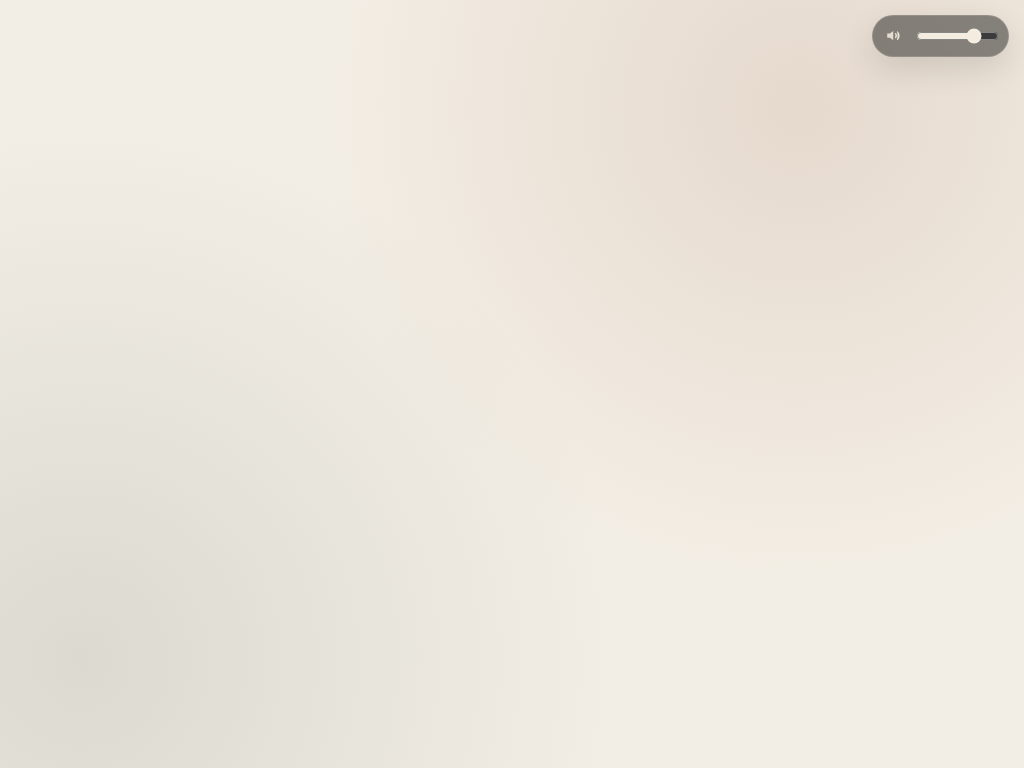
Test: ScreenAudioControl › mutes from the icon and unmutes when the slider is raised
Click the button named "Выключить звук" at (893, 36), box left=879, top=22, right=907, bottom=50
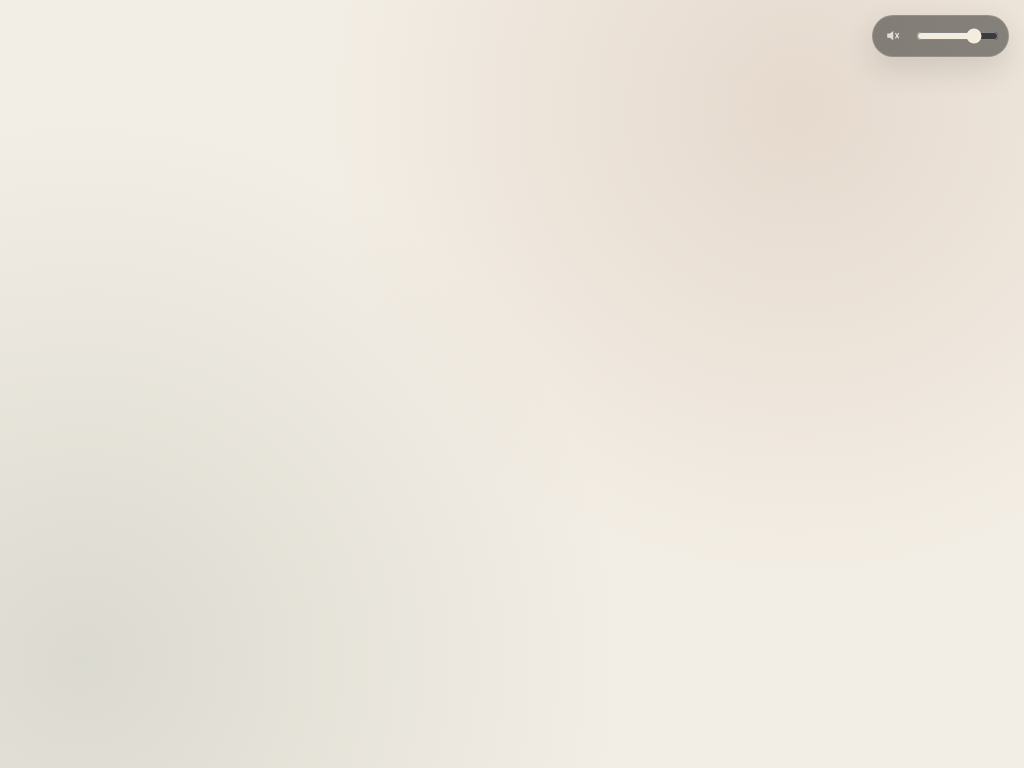
Now the button named "Включить звук" is shown, box left=879, top=22, right=907, bottom=50
Set the slider named "Громкость" to "30" at (944, 36), box left=916, top=25, right=999, bottom=47
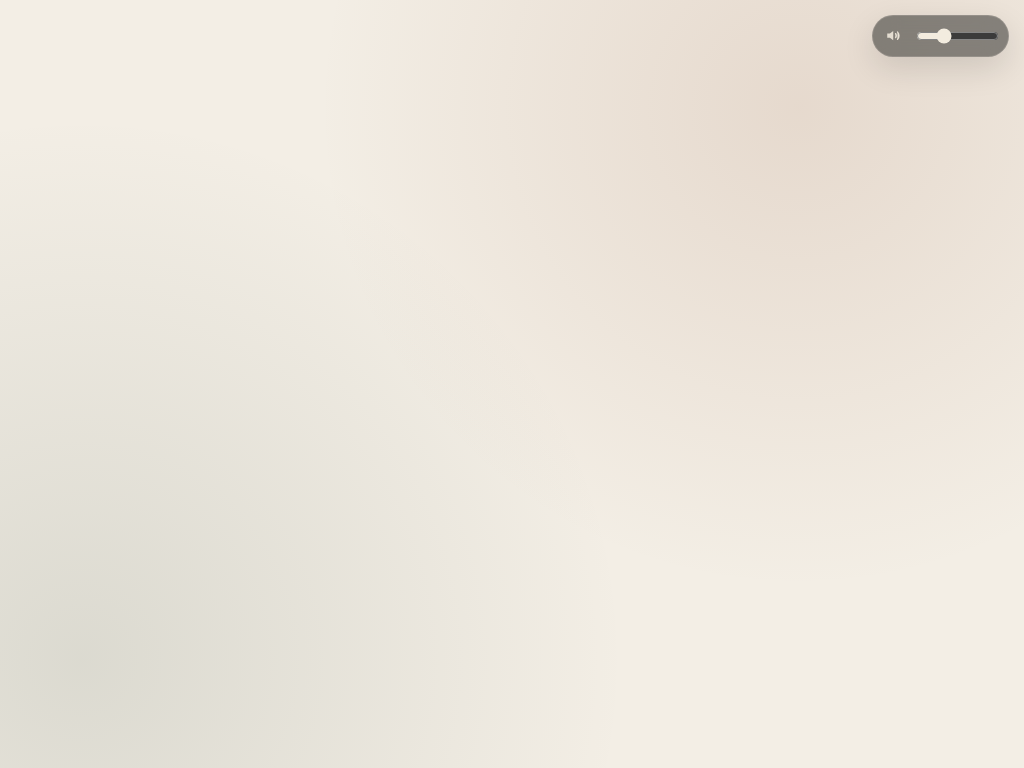
Now the button named "Выключить звук" is shown, box left=879, top=22, right=907, bottom=50
